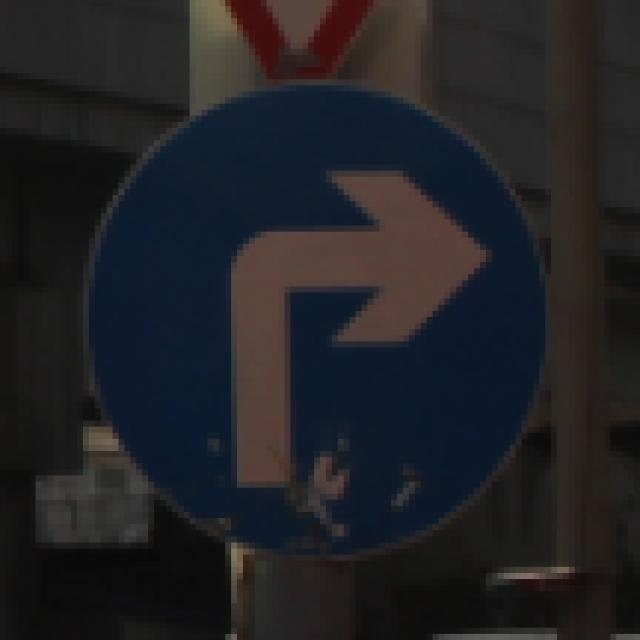right: (107, 96, 526, 522)
